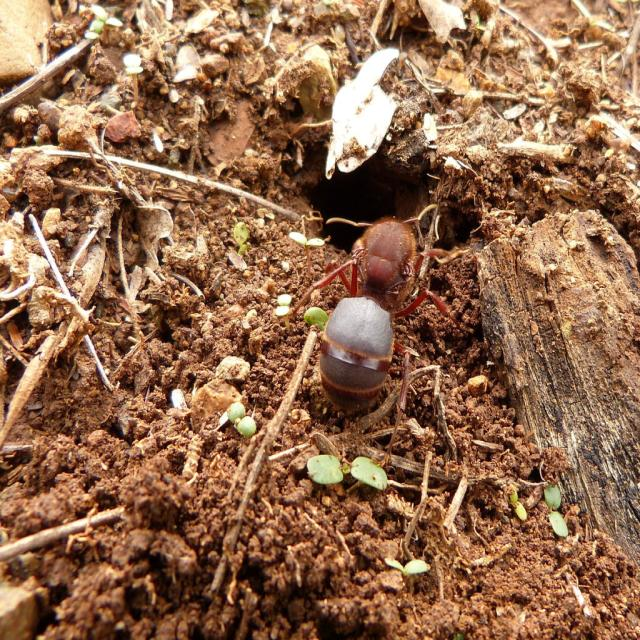Alive-Female-Dealate: (286, 202, 470, 468)
